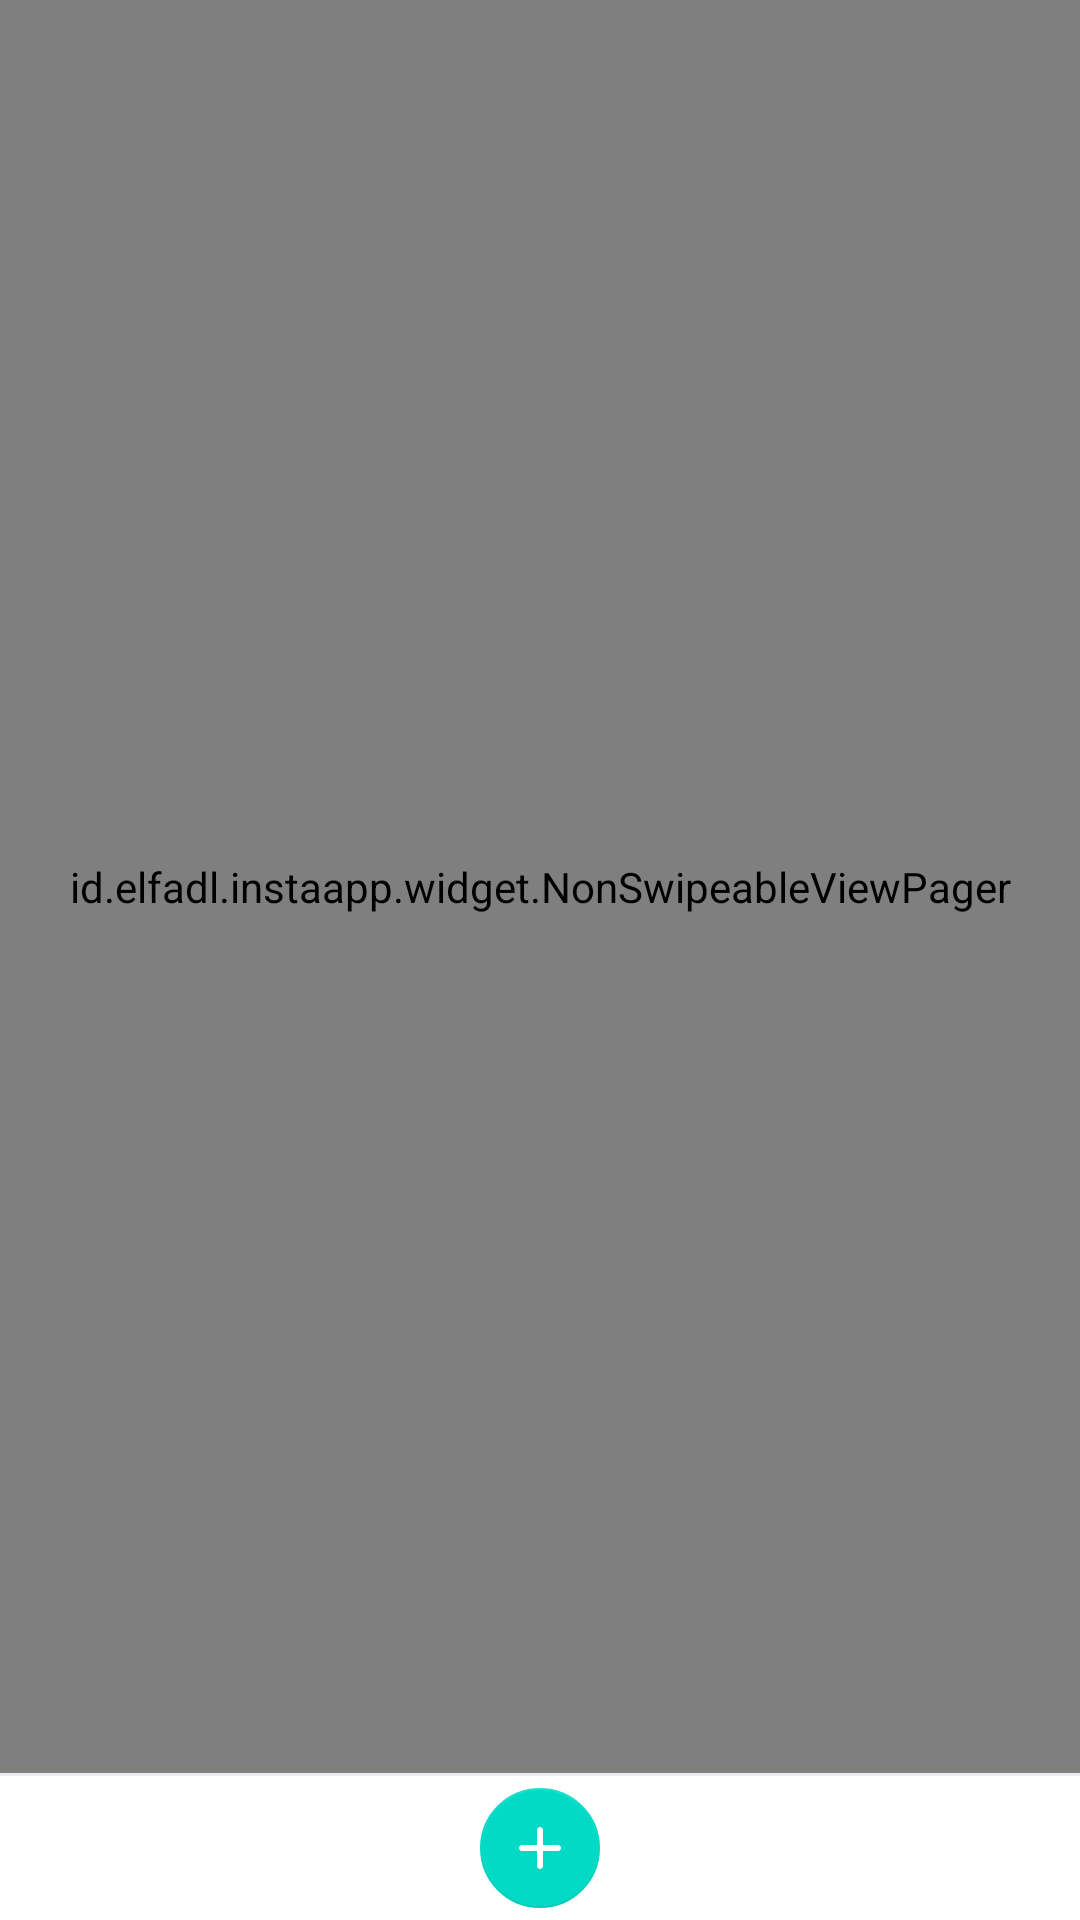

Named icons in this screenshot (1080x1920) and their centers, point (x, y):
add: point (540, 1848)
